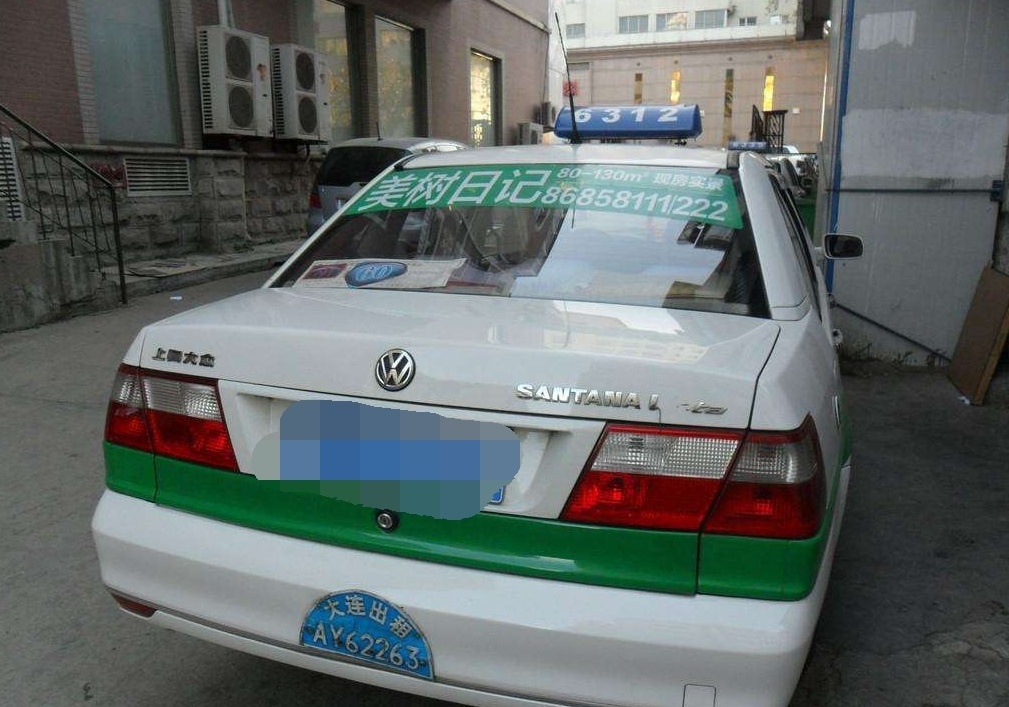taxi: (89, 102, 858, 707)
